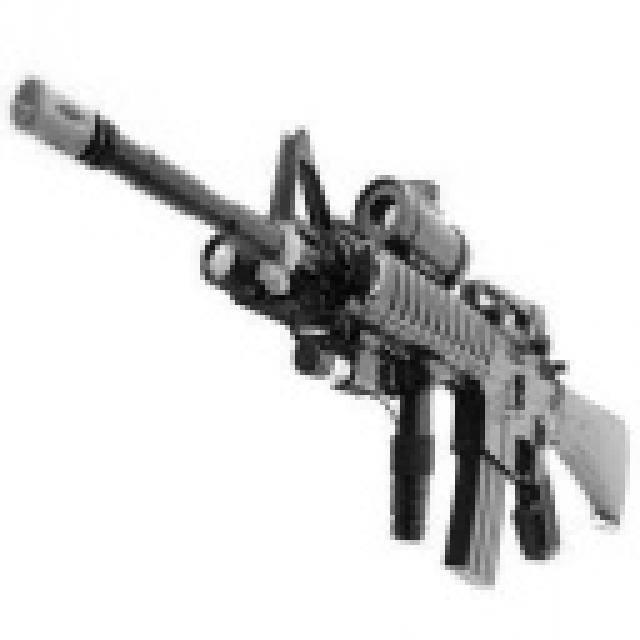Rifle: (0, 52, 640, 598)
